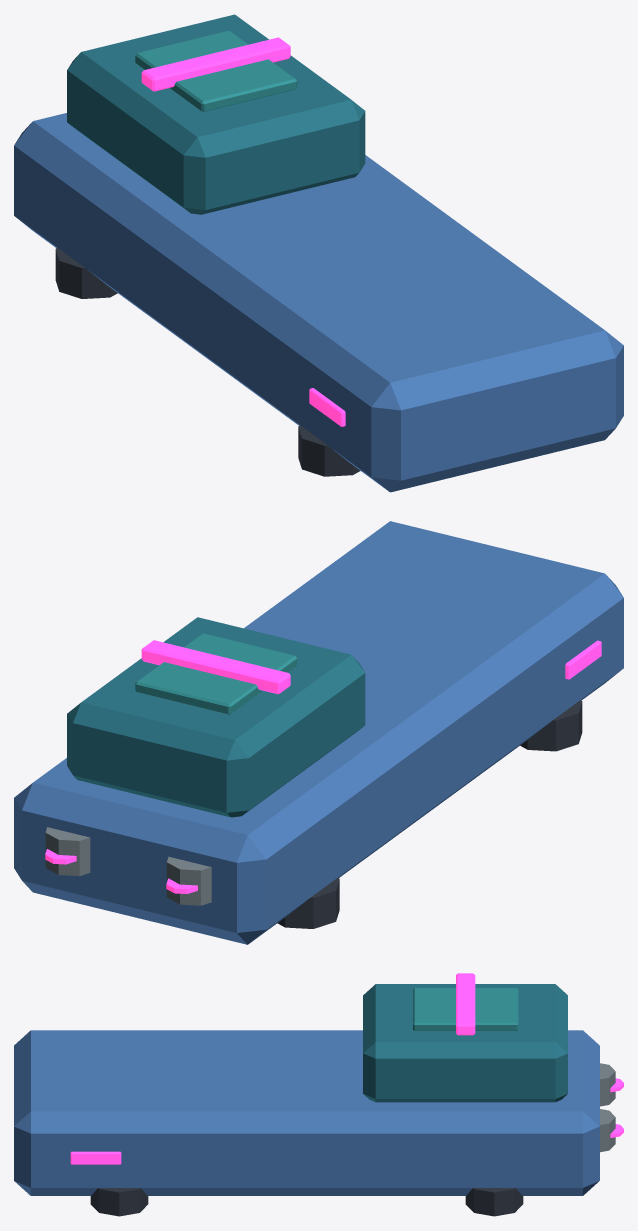
File: vehicles_036_seed11.glb
3 renders of one model, top to bottom at view 1: azimuth 30°, elevation 25°; view 2: azimuth 150°, elevation 25°; view 3: azimuth 270°, elevation 25°, orthographic. The views are drawn at different scales.
Visible parts, largest first — view 1: vehicles_036_seed11; view 2: vehicles_036_seed11; view 3: vehicles_036_seed11.
Boxes of the visible parts, x1=… form: vehicles_036_seed11: x1=14, y1=14, x2=623, y2=492; vehicles_036_seed11: x1=14, y1=521, x2=623, y2=944; vehicles_036_seed11: x1=14, y1=973, x2=623, y2=1216.
Bounding box in the file's own units: 2.06 × 1.55 × 5.08.
